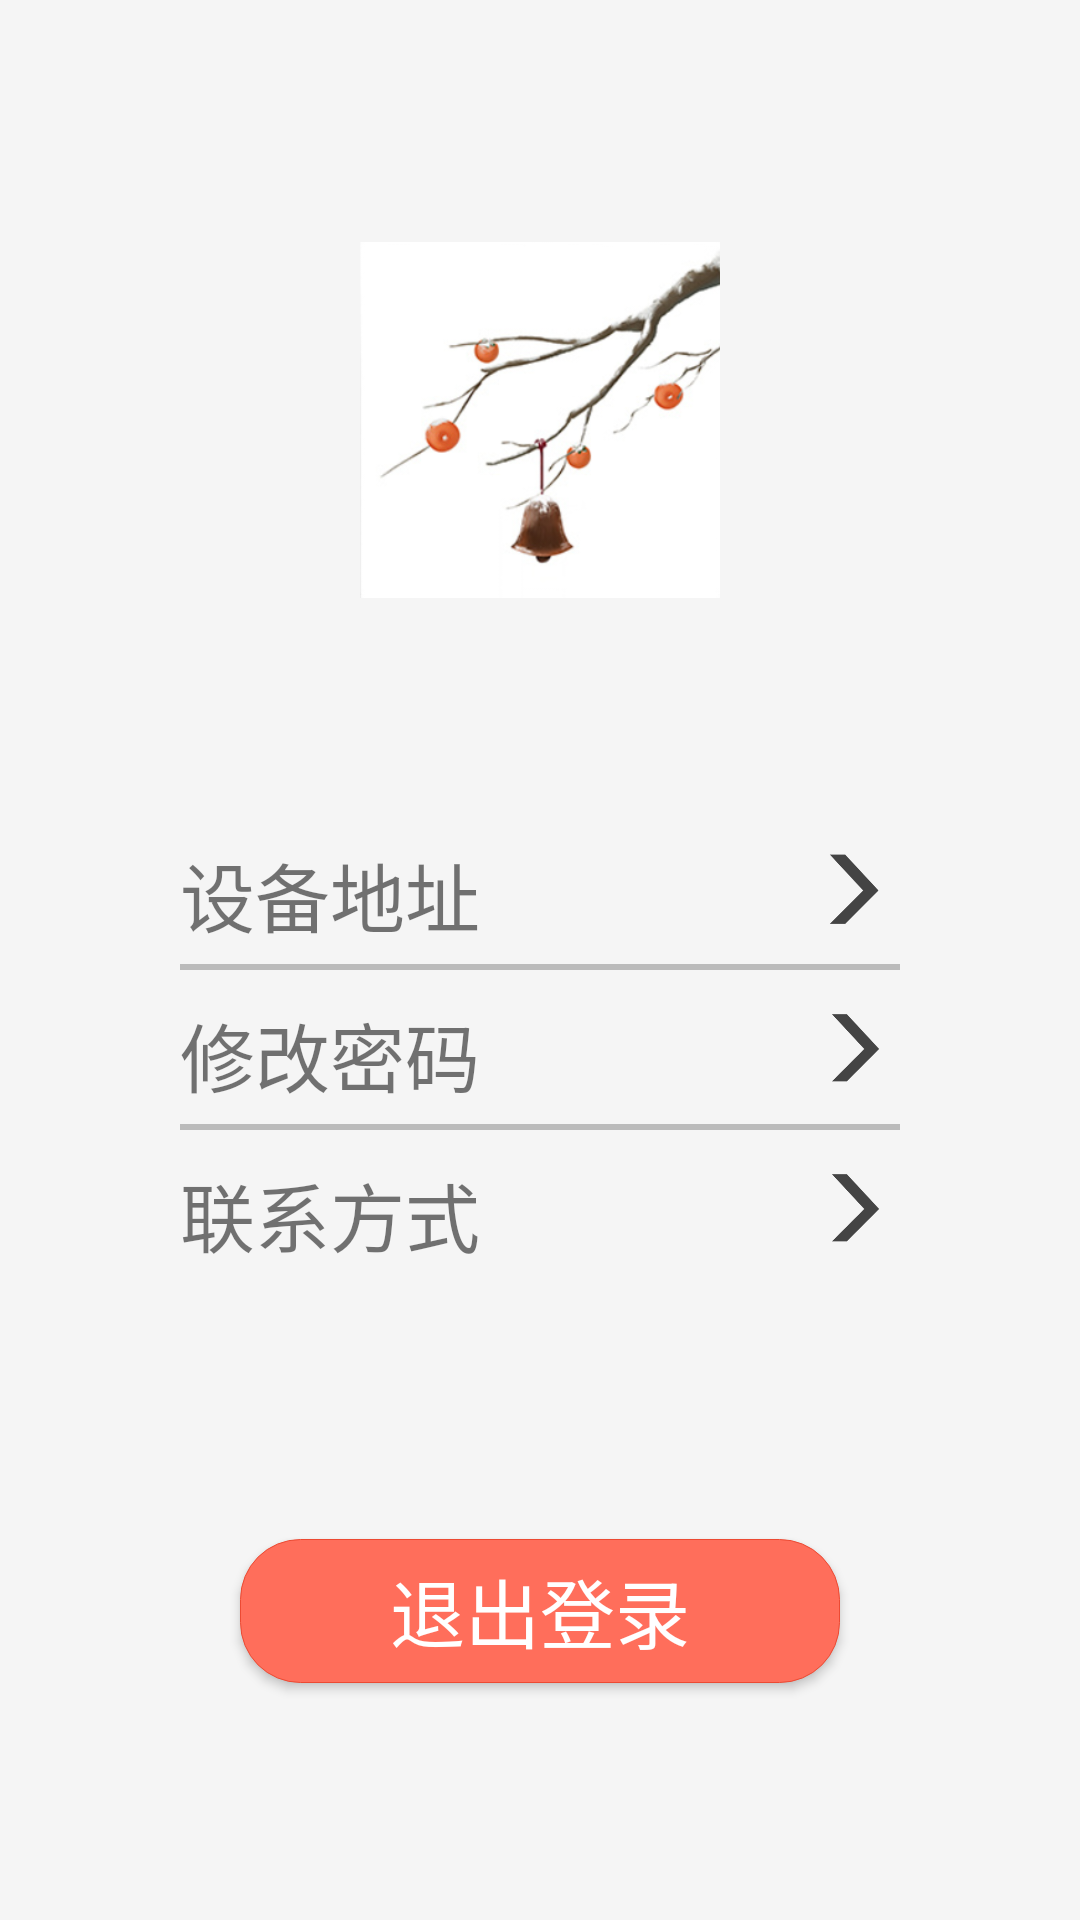

Icon bounding boxes for this 1080px×1920px phone screenshot, format (x1, y1, x2, y2):
profilr photo: (360, 242, 720, 598)
right: (830, 854, 879, 924), (832, 1014, 879, 1082), (832, 1174, 879, 1242)
